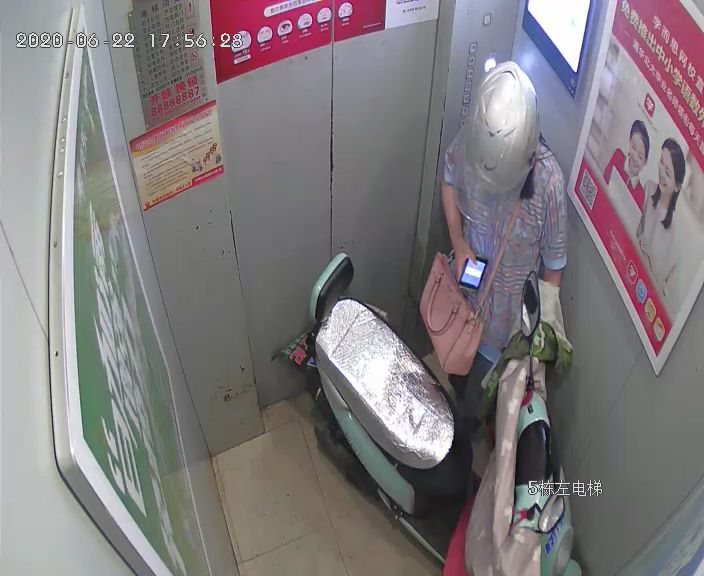Electric-bicycle: (274, 250, 579, 571)
